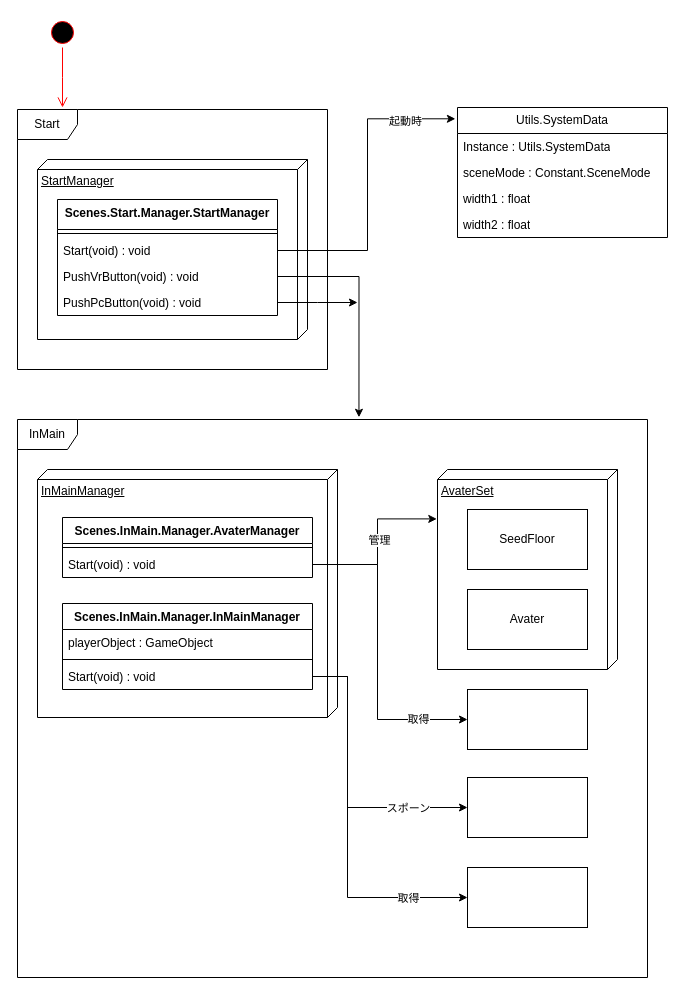
The diagram is 685 pixels wide and 995 high, and some of its shapes have lost their labels. Here are the shapes that lost their labels. From the top down, the centre of each, then its label:
(527,719): MortonModel
(527,807): PlayerObject PC and VR
(527,897): PlayerPosition
